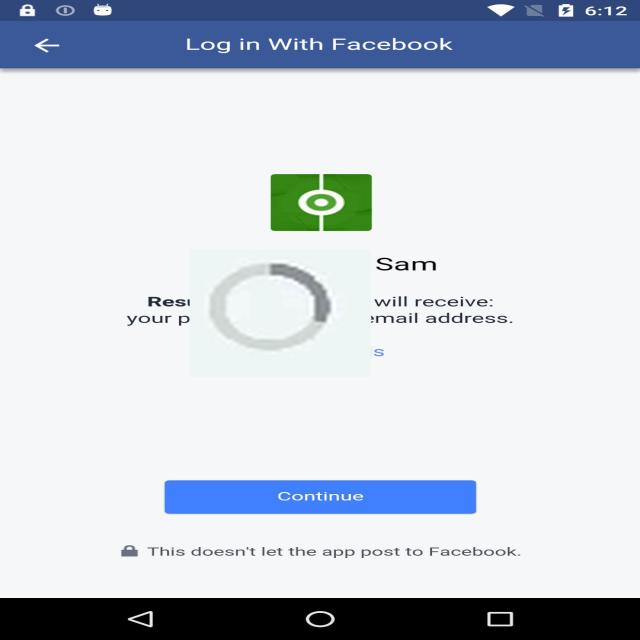misdirection: (190, 249, 371, 377)
